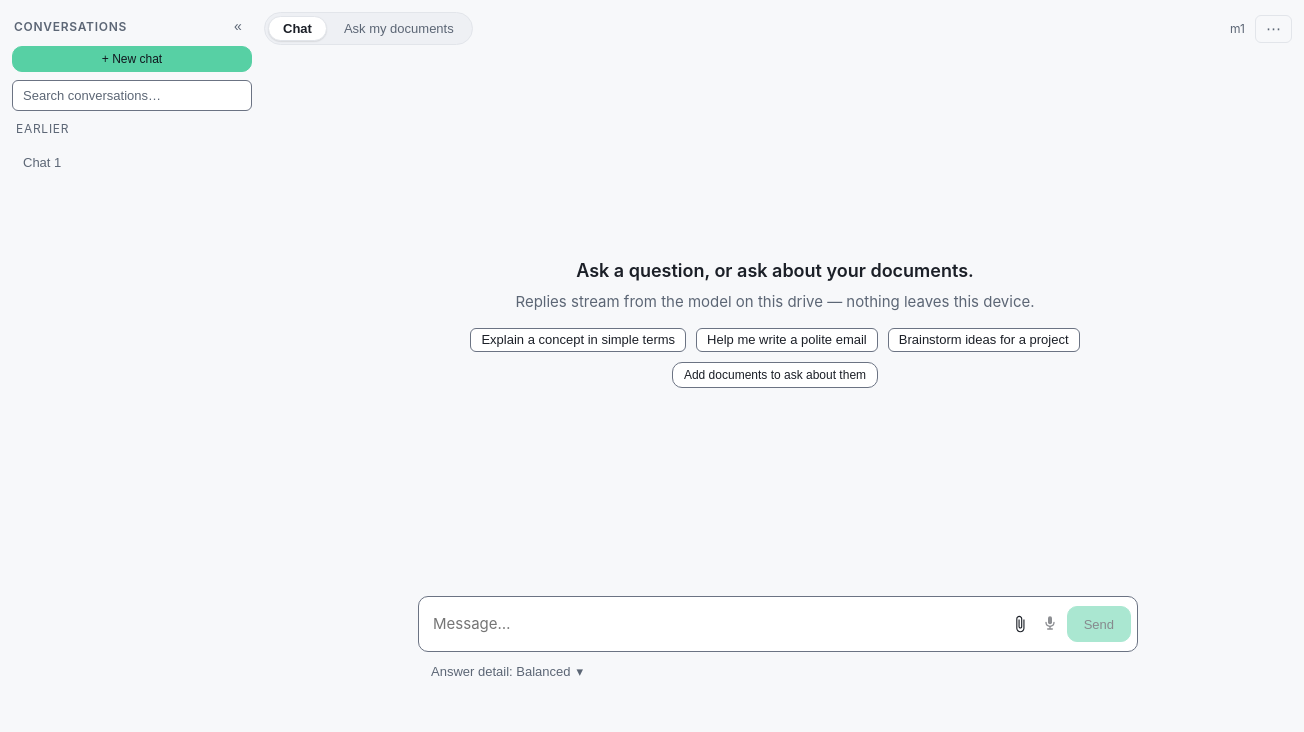
ChatScreen — stream recovery (T-1) › shows the live recovered bubble + locked composer, then refreshes on completion; a recovered Stop confirms (CR-4)
# Select c1 → the recovery effect polls getActiveStream and finds the in-flight reply.
What coordinates should you click on to do the following:
click the button with class "chat-conv"
I would click on:
 (116, 162)
Its box is [12,142,221,182].
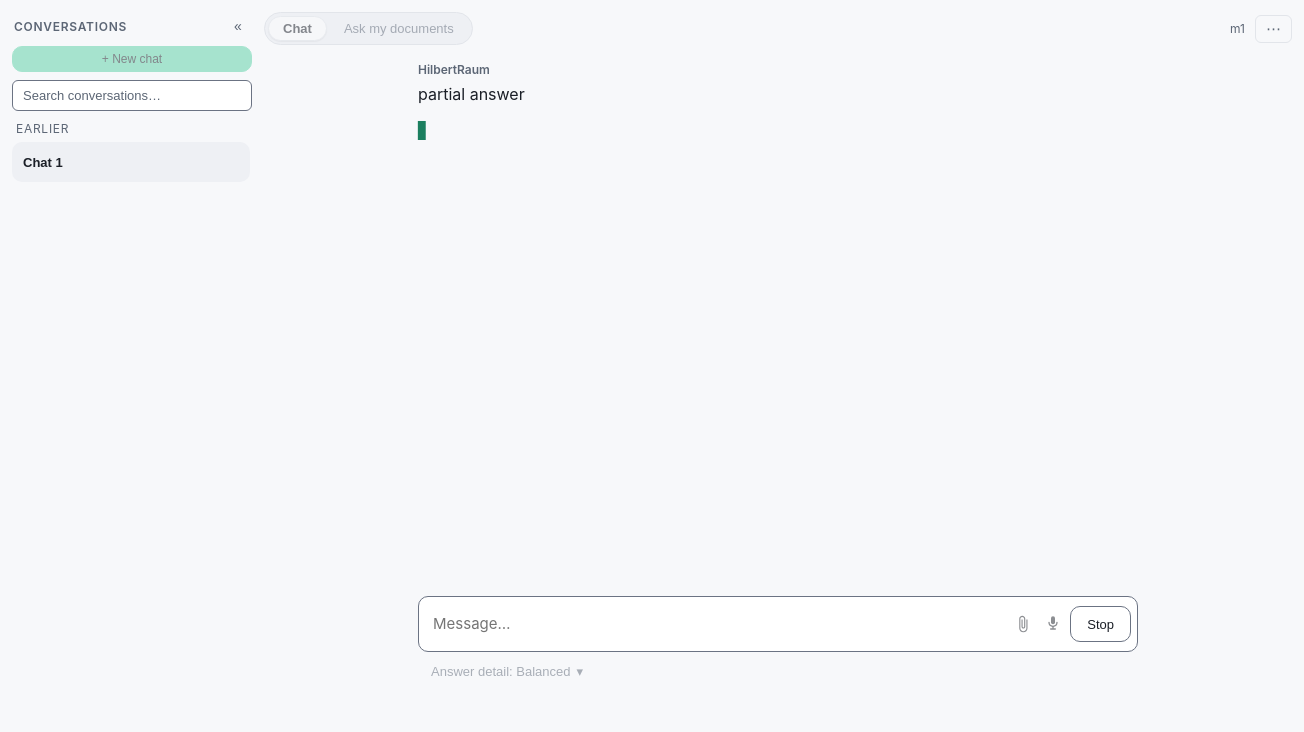
Check: the text "partial answer" is shown, box [418,84,525,104]
Check: the button "Stop" is shown
Check: the button "Send" is gone
What coordinates should you click on to do the following:
click the button "Stop"
I would click on:
 (1101, 624)
Its box is [1070,606,1131,642].
Wait 300 ms
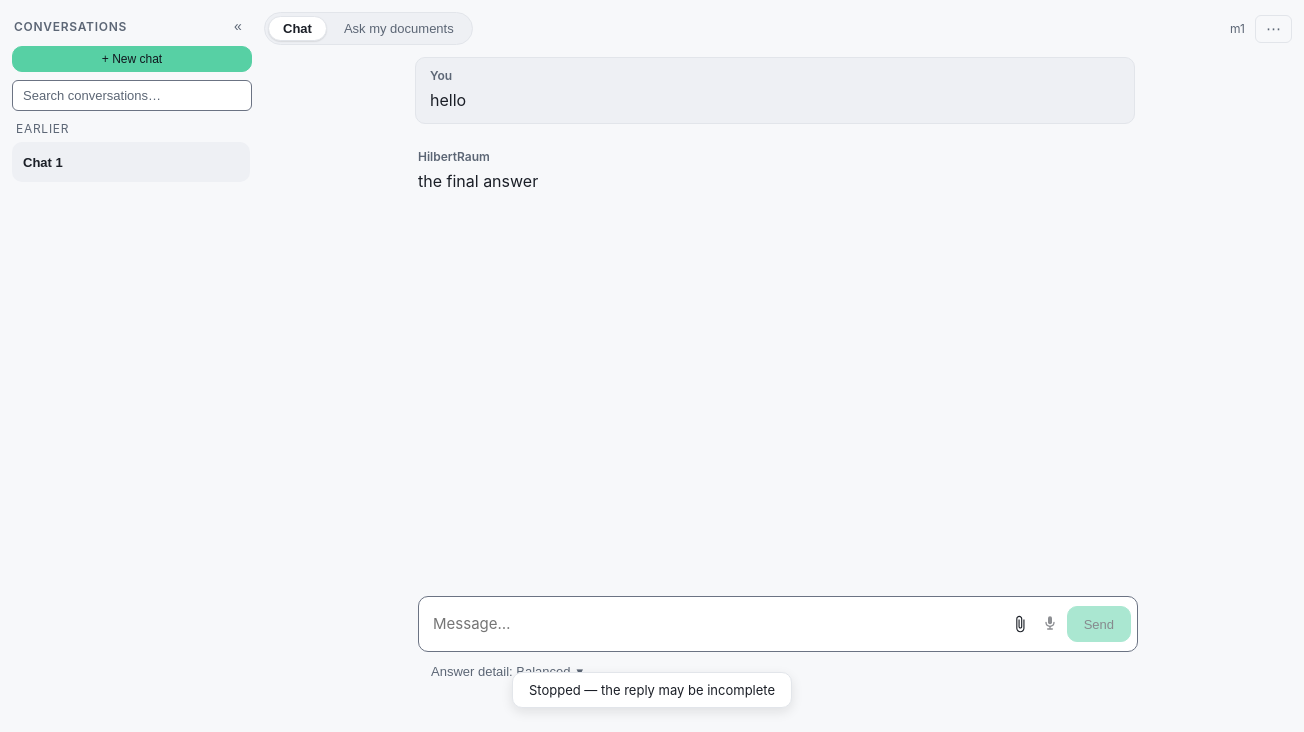
Check: the text "the final answer" is shown, box [418,171,538,191]
Check: the text "partial answer" is gone
Check: the button "Send" is shown, box [1067,606,1131,642]
